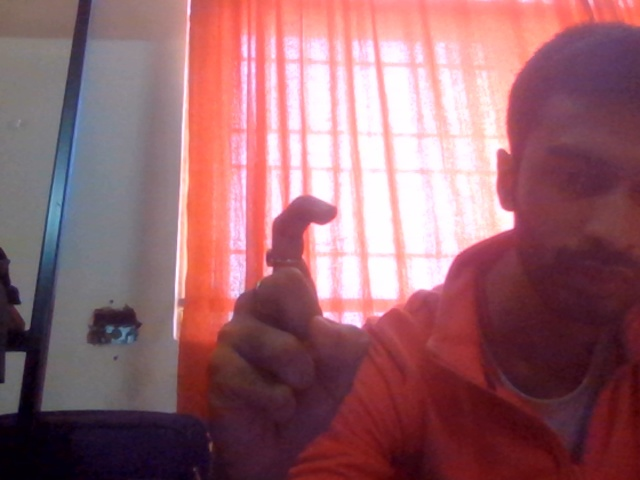X: (191, 186, 384, 480)
